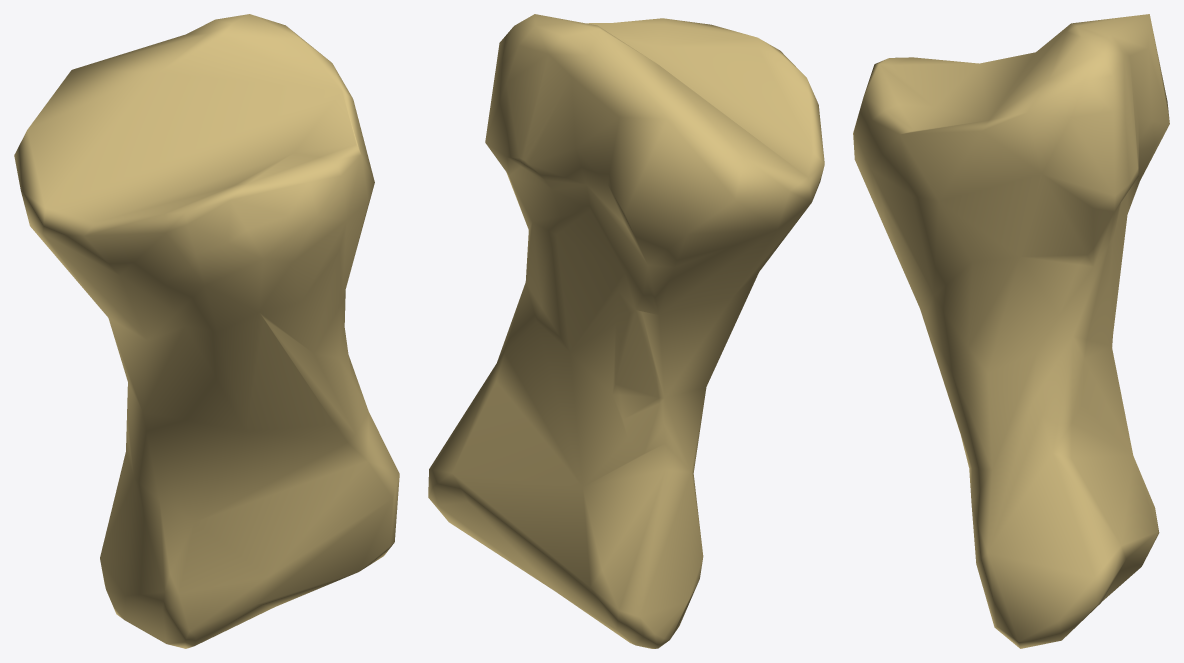
3 views of the same model, side by side, from view 1: azimuth 30°, elevation 25°; view 2: azimuth 150°, elevation 25°; view 3: azimuth 270°, elevation 25° (orthographic). The views are drawn at different scales.
Parts seen in each view (by area): view 1: 左侧第三趾中节趾骨; view 2: 左侧第三趾中节趾骨; view 3: 左侧第三趾中节趾骨.
Part boxes in pixels (bbox=[...]): 左侧第三趾中节趾骨: bbox=[14, 14, 399, 648]; 左侧第三趾中节趾骨: bbox=[428, 14, 824, 648]; 左侧第三趾中节趾骨: bbox=[853, 14, 1169, 648].
Size of the model in its own units: 0.0164 by 0.0257 by 0.0122.
